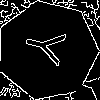Y: (22, 25, 76, 69)
